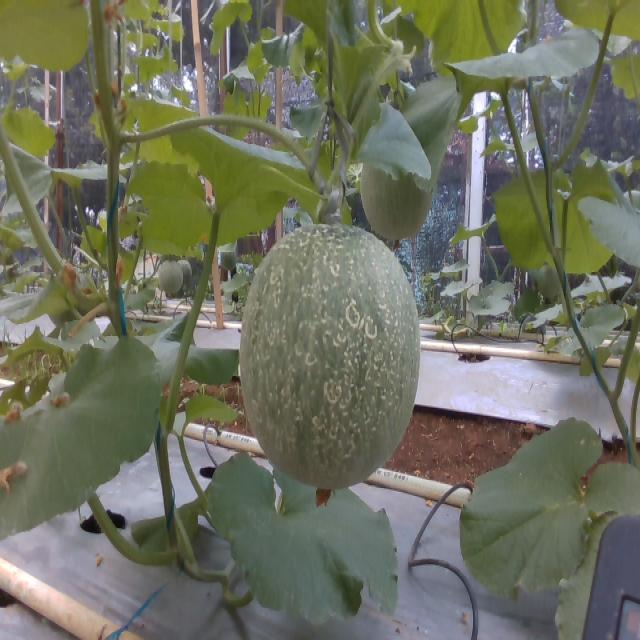melon: (240, 224, 420, 490)
